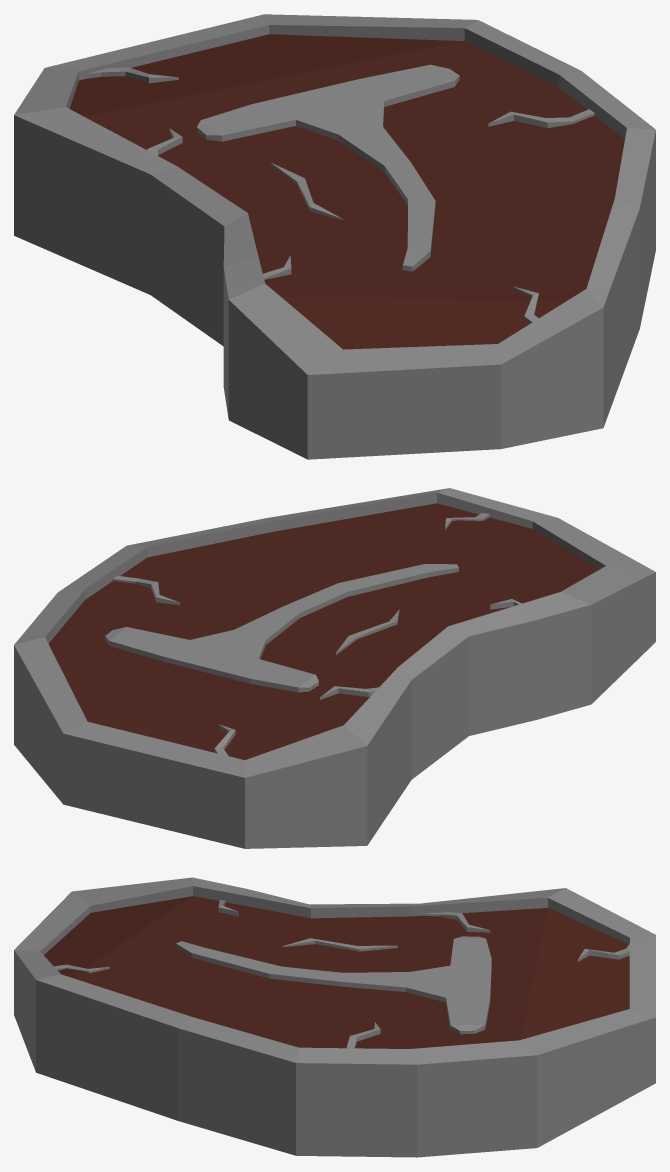
The model's file is steak.glb.
3 views of the same model, one above another, from view 1: azimuth 30°, elevation 25°; view 2: azimuth 150°, elevation 25°; view 3: azimuth 270°, elevation 25° (orthographic). The views are drawn at different scales.
Visible parts, largest first — view 1: steak; view 2: steak; view 3: steak.
Boxes of the visible parts, <box> form: steak: <box>14,14,655,459</box>; steak: <box>14,488,655,848</box>; steak: <box>14,877,655,1157</box>.
Bounding box in the file's own units: 0.1518 × 0.0391 × 0.22.
